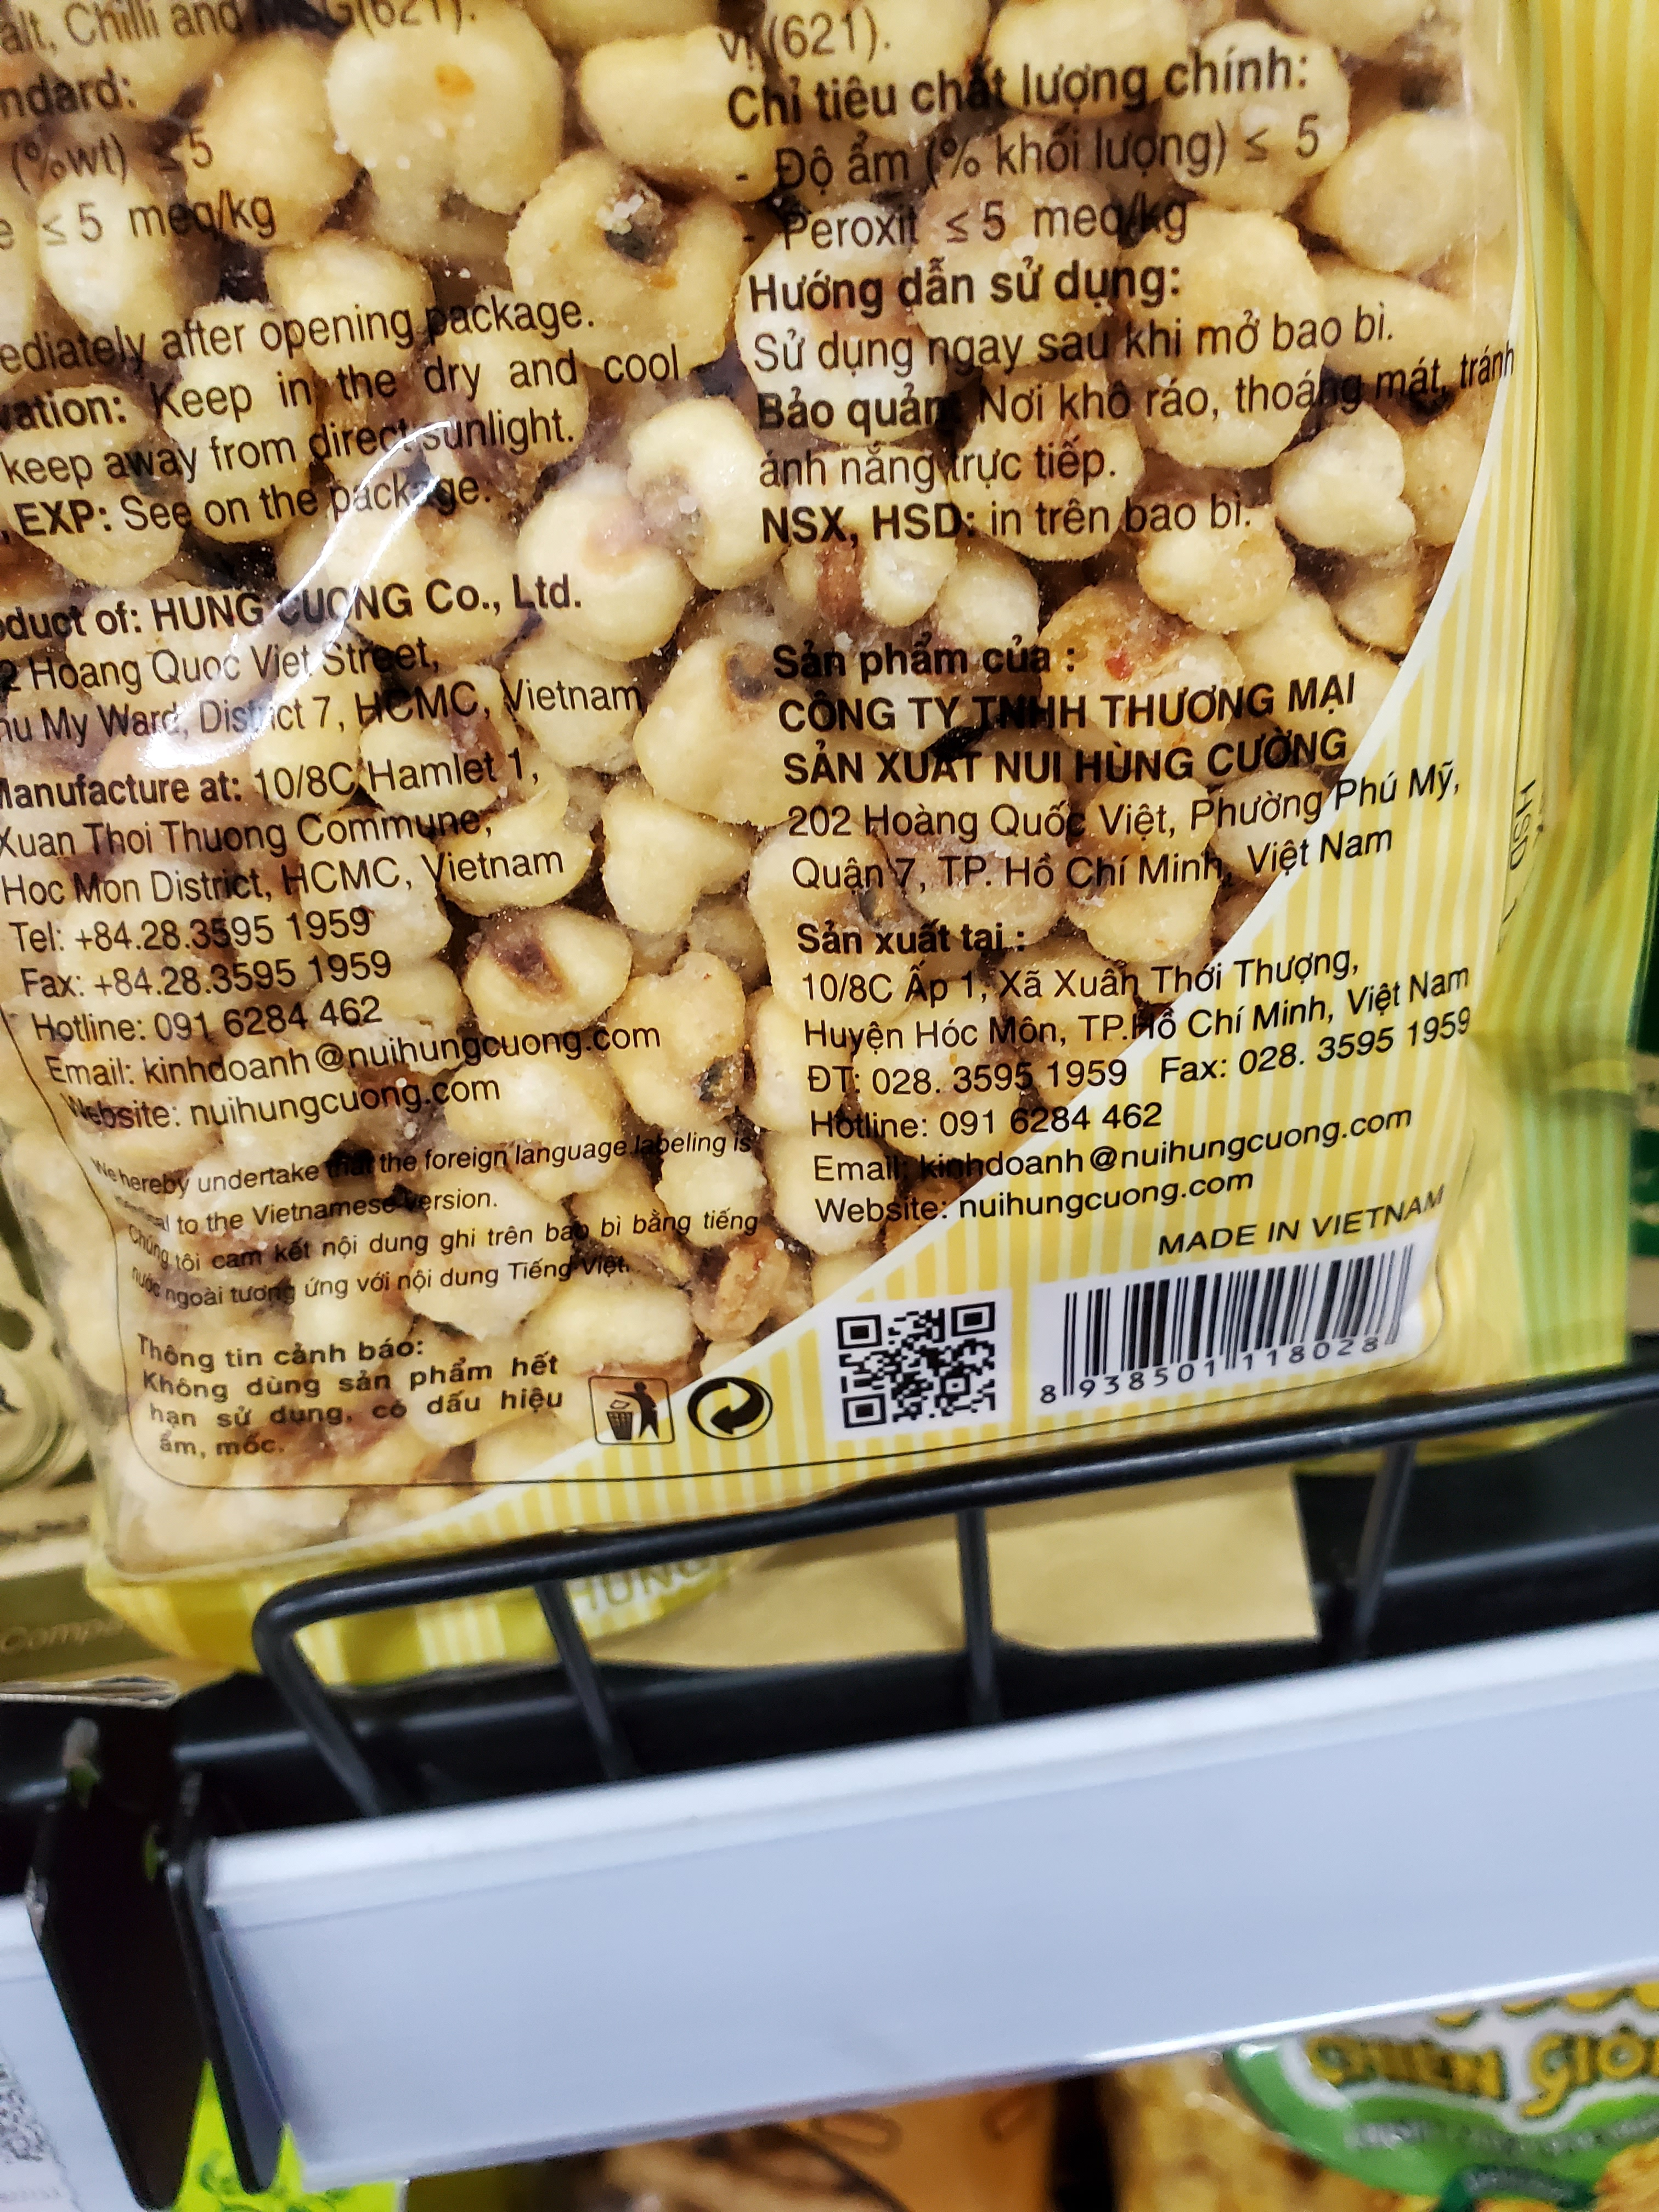barcode: (997, 1224, 1455, 1430)
qr code: (803, 1291, 1023, 1451)
